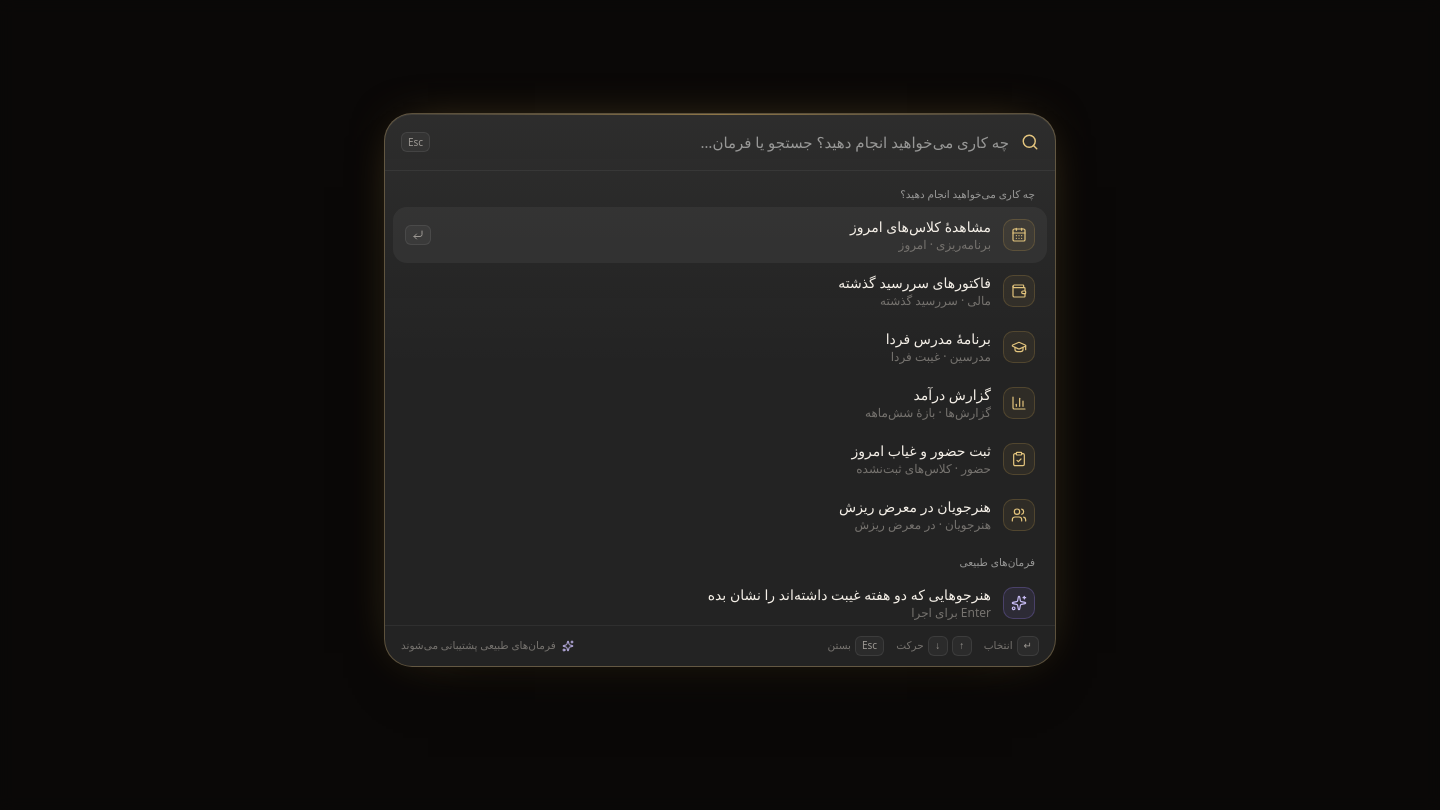
Test case: CommandPalette search failure disclosure (I15-A1) › renders an explicit failure, not «چیزی پیدا نشد», when the aggregate search fails
Type "ژژژ" into the field with placeholder "چه کاری می‌خواهید انجام دهید؟ جستجو یا فرمان…".
click(726, 142); type("ژژژ")  # box top-left (442, 114), bottom-right (1009, 170)
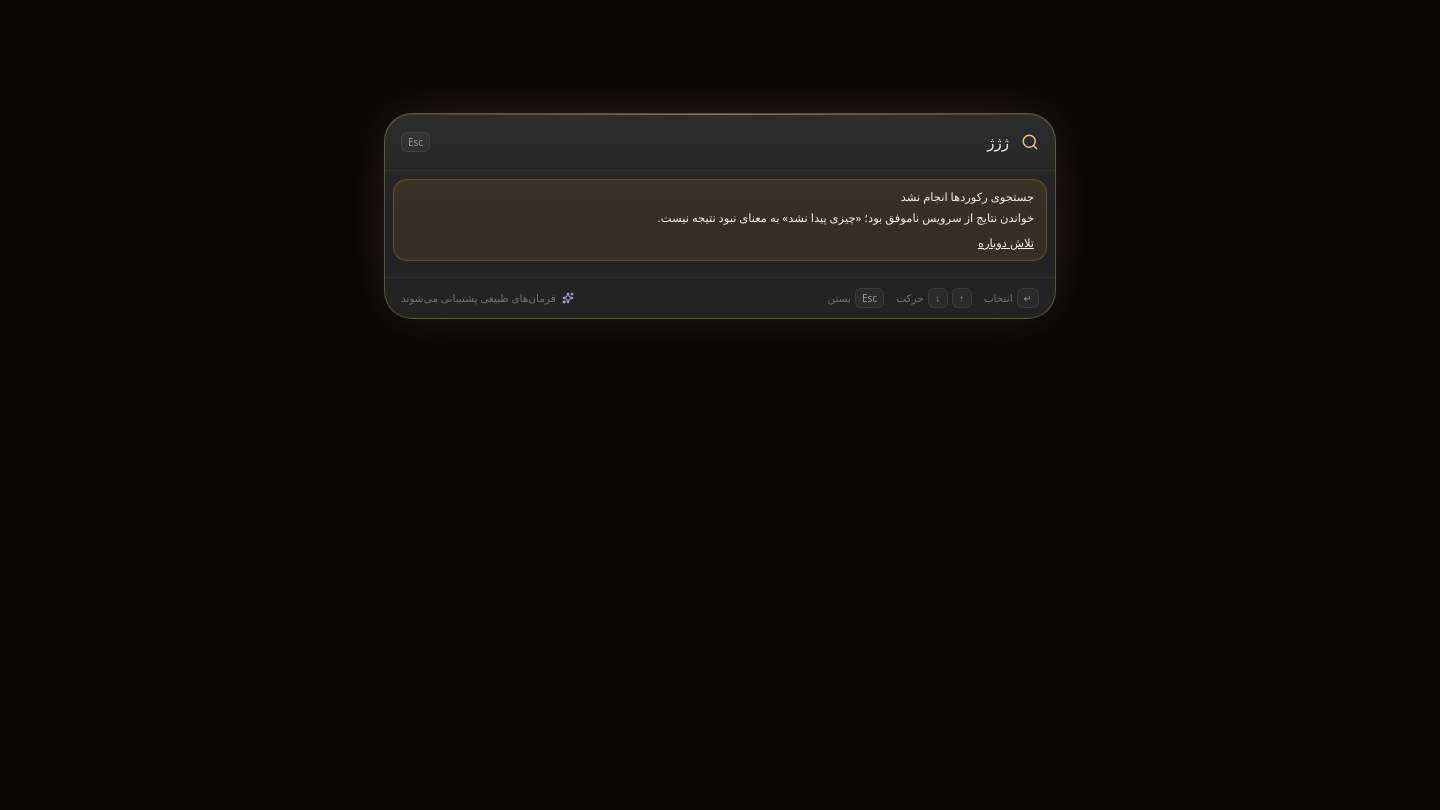
Expected: the text "جستجوی رکوردها انجام نشد" is shown, top-left (901, 189), bottom-right (1034, 204)
Expected: the button "تلاش دوباره" is shown, top-left (978, 234), bottom-right (1034, 252)
